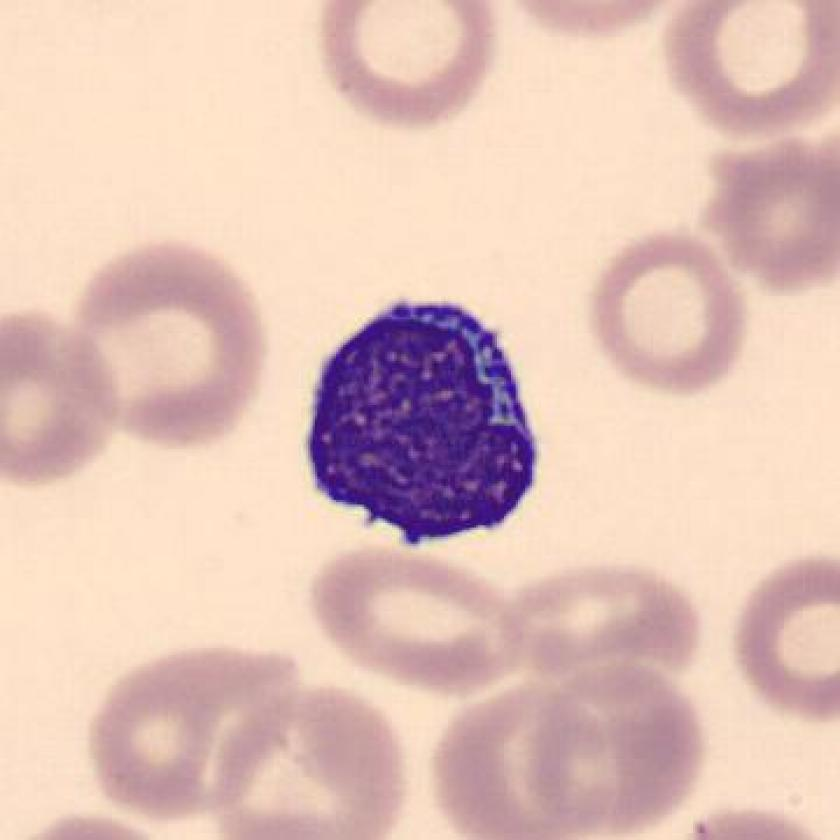lymphocyte: (295, 288, 554, 552)
